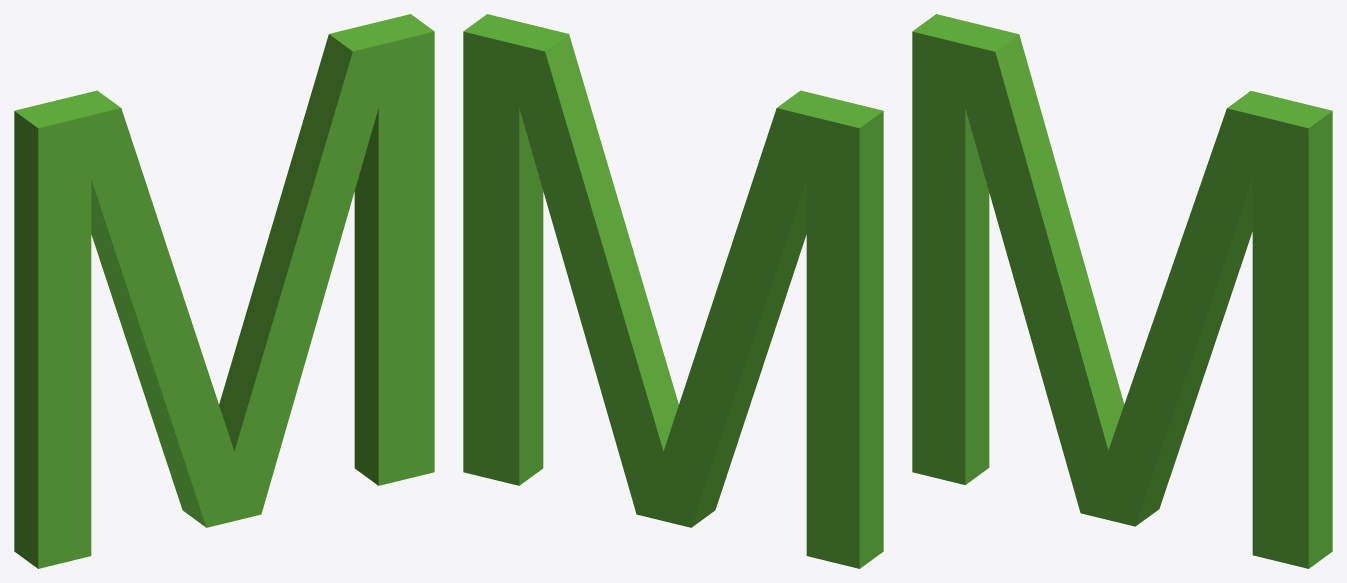
Rendered from letras.obj.
3 views of the same model, side by side, from view 1: azimuth 30°, elevation 25°; view 2: azimuth 150°, elevation 25°; view 3: azimuth 330°, elevation 25° (orthographic).
Parts seen in each view (by area): view 1: M; view 2: M; view 3: M.
Part boxes in pixels (x1=…): M: x1=14, y1=14, x2=434, y2=568; M: x1=463, y1=14, x2=883, y2=568; M: x1=912, y1=14, x2=1332, y2=568.
Bounding box in the file's own units: 0.954 × 1.01 × 0.1.
